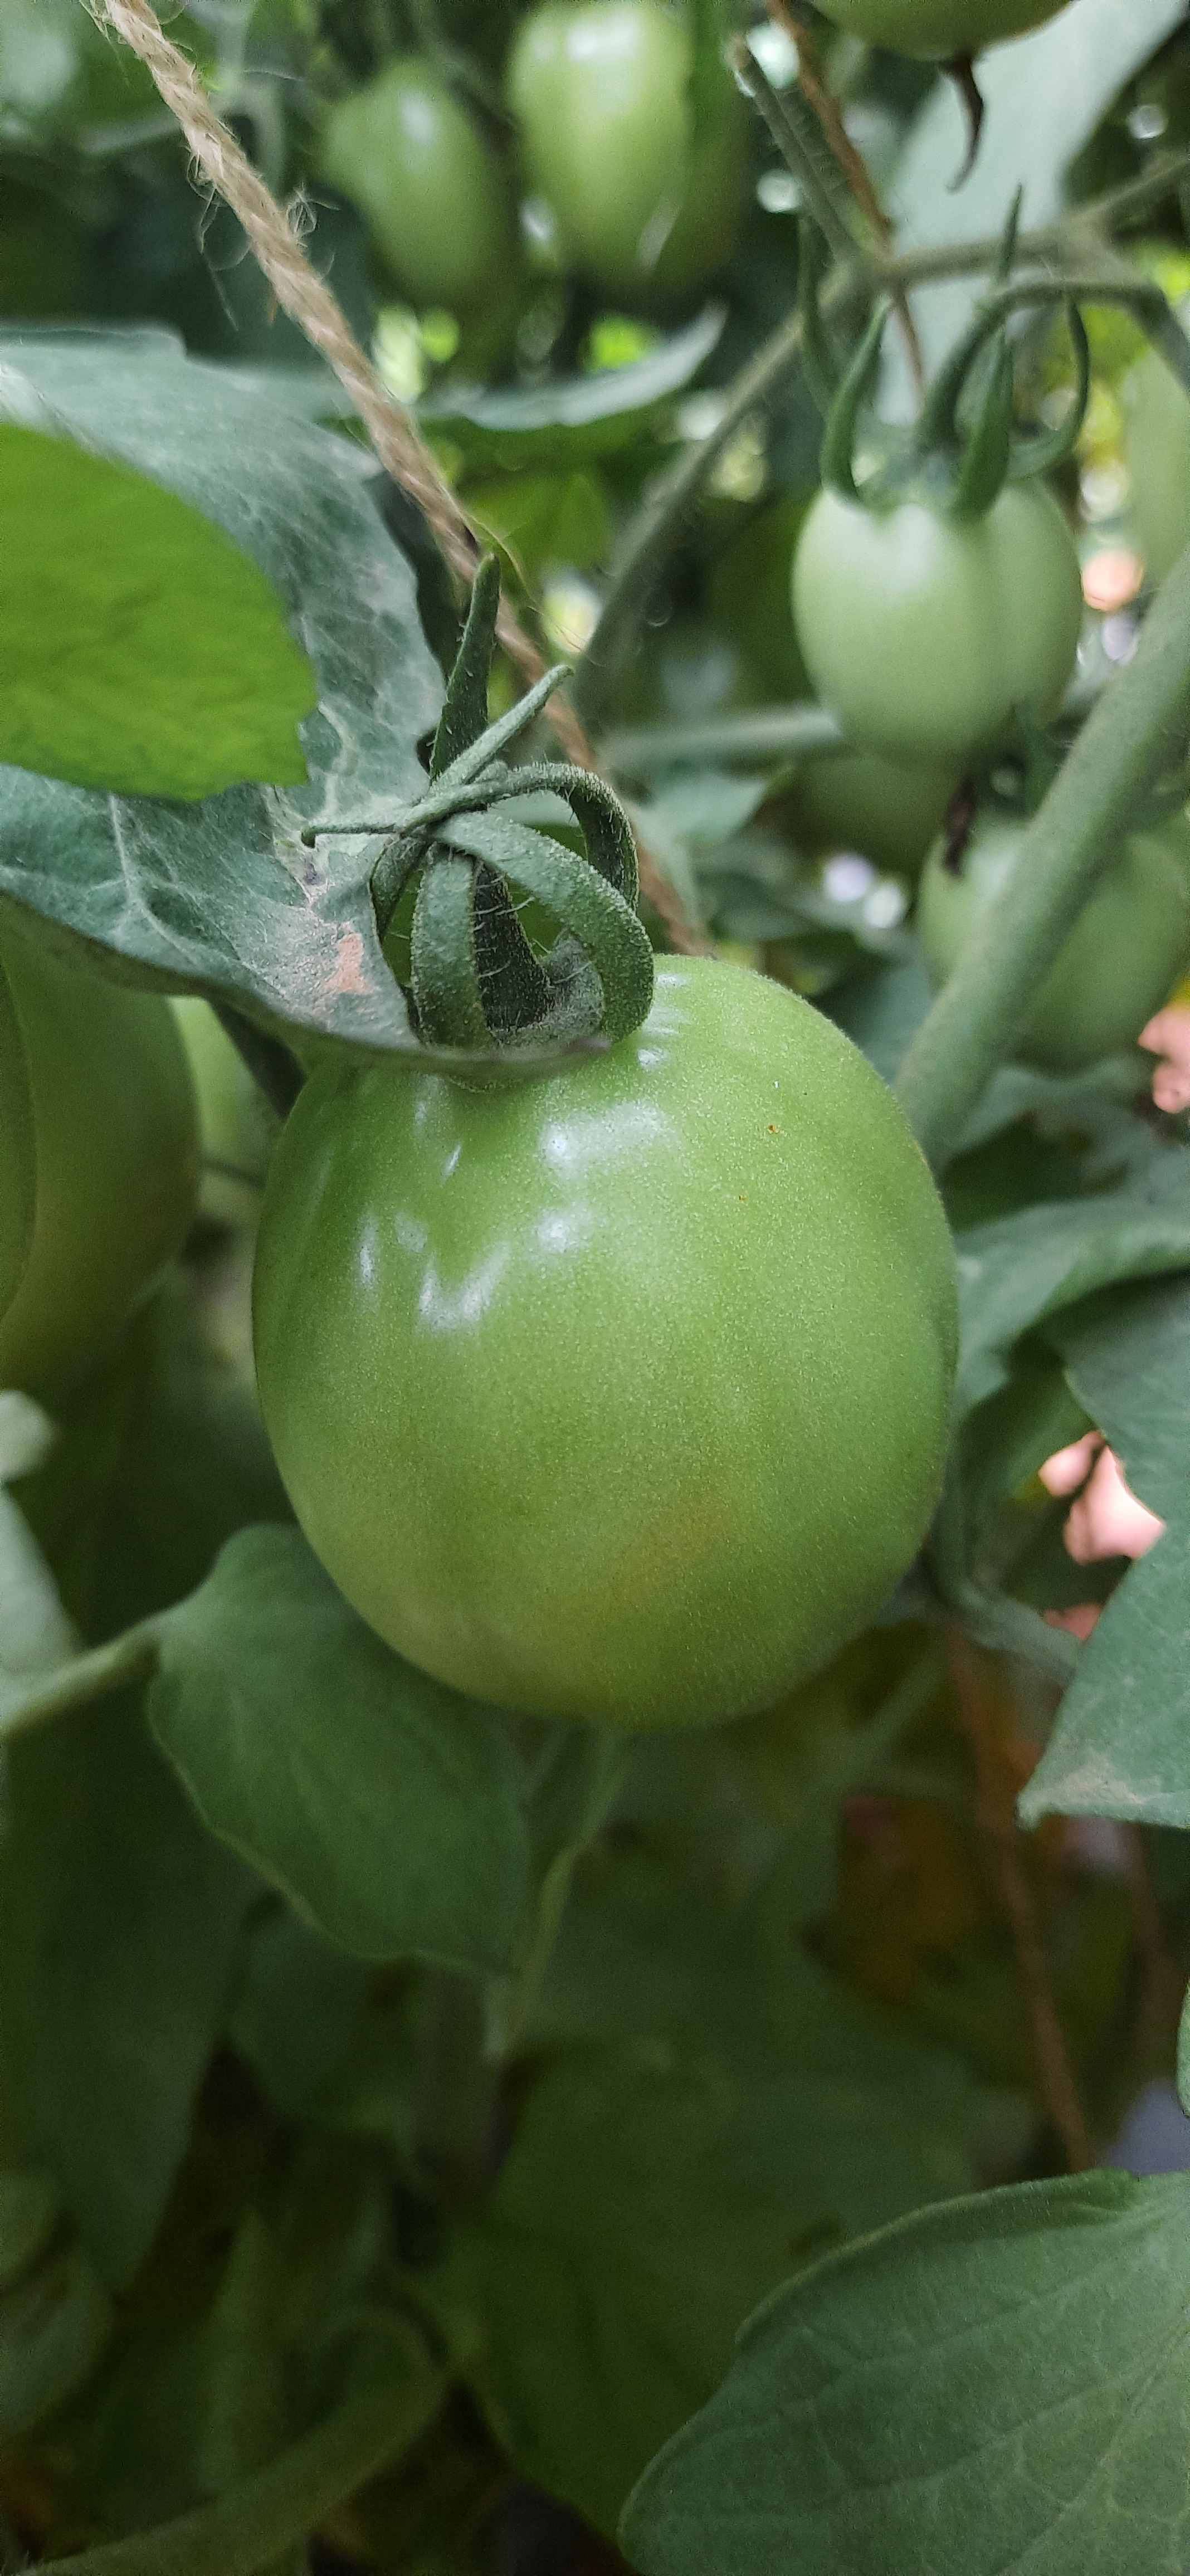raw_tomato: (217, 951, 1049, 1810)
